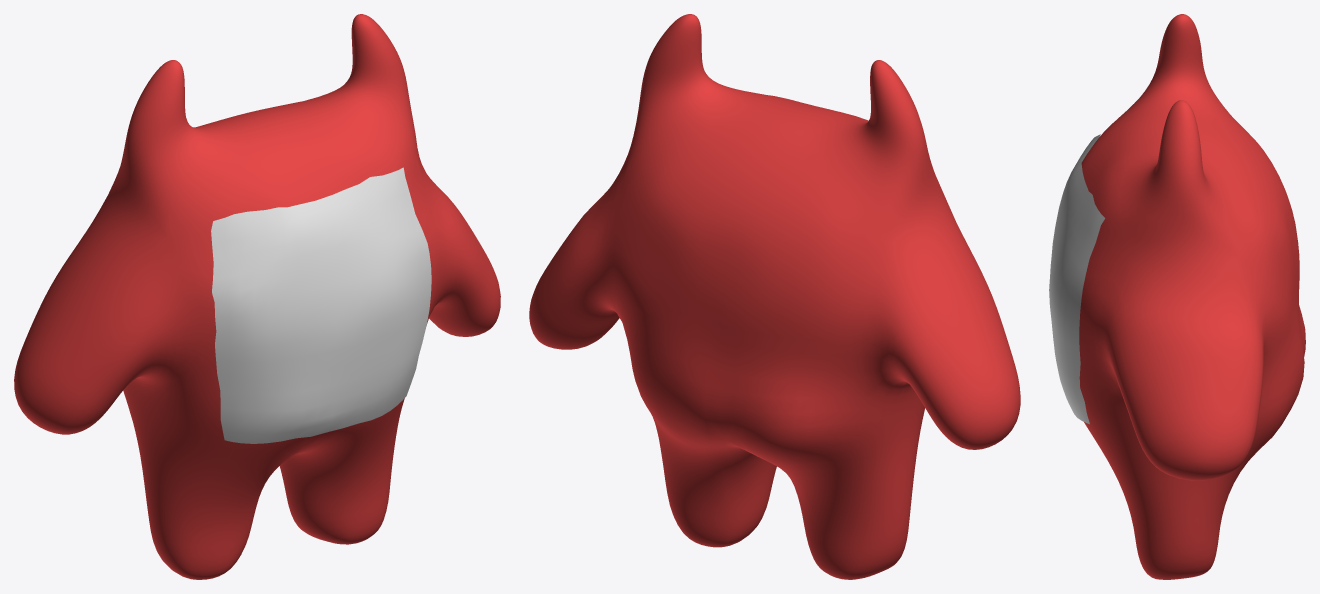
File: demon.glb
3 views of the same model, side by side, from view 1: azimuth 30°, elevation 25°; view 2: azimuth 150°, elevation 25°; view 3: azimuth 270°, elevation 25° (orthographic). The views are drawn at different scales.
Parts seen in each view (by area): view 1: Demon.001, Face; view 2: Demon.001; view 3: Demon.001, Face.
Boxes of the visible parts, box(x1,y1,x2,y2) form: Demon.001: box(14, 14, 500, 579); Face: box(211, 167, 431, 443); Demon.001: box(529, 14, 1020, 579); Demon.001: box(1079, 14, 1305, 579); Face: box(1049, 134, 1105, 424).
Bounding box in the file's own units: 2.34 × 2.44 × 1.18.
